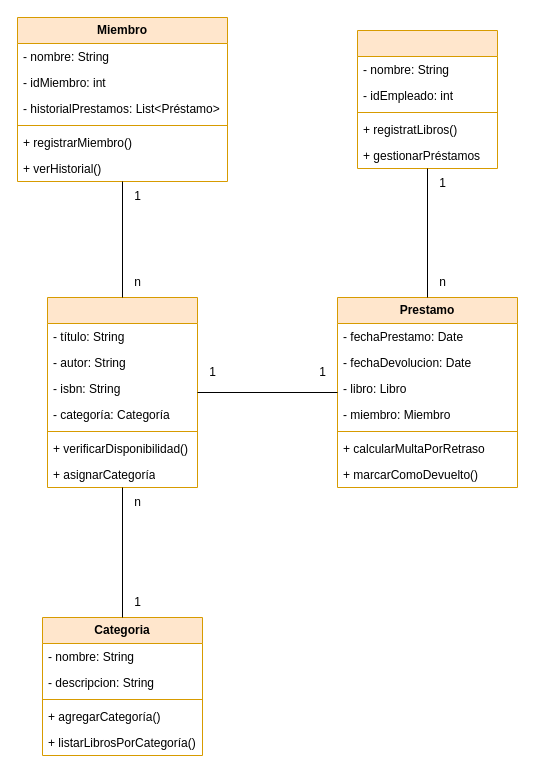
Image size: 535x776. Some labels were removed from this diagram. The box of each missing label's shape, as (x1, y1, x2, y2) in pixels:
Bibliotecario: (356, 30, 498, 168)
Libro: (46, 296, 198, 488)
